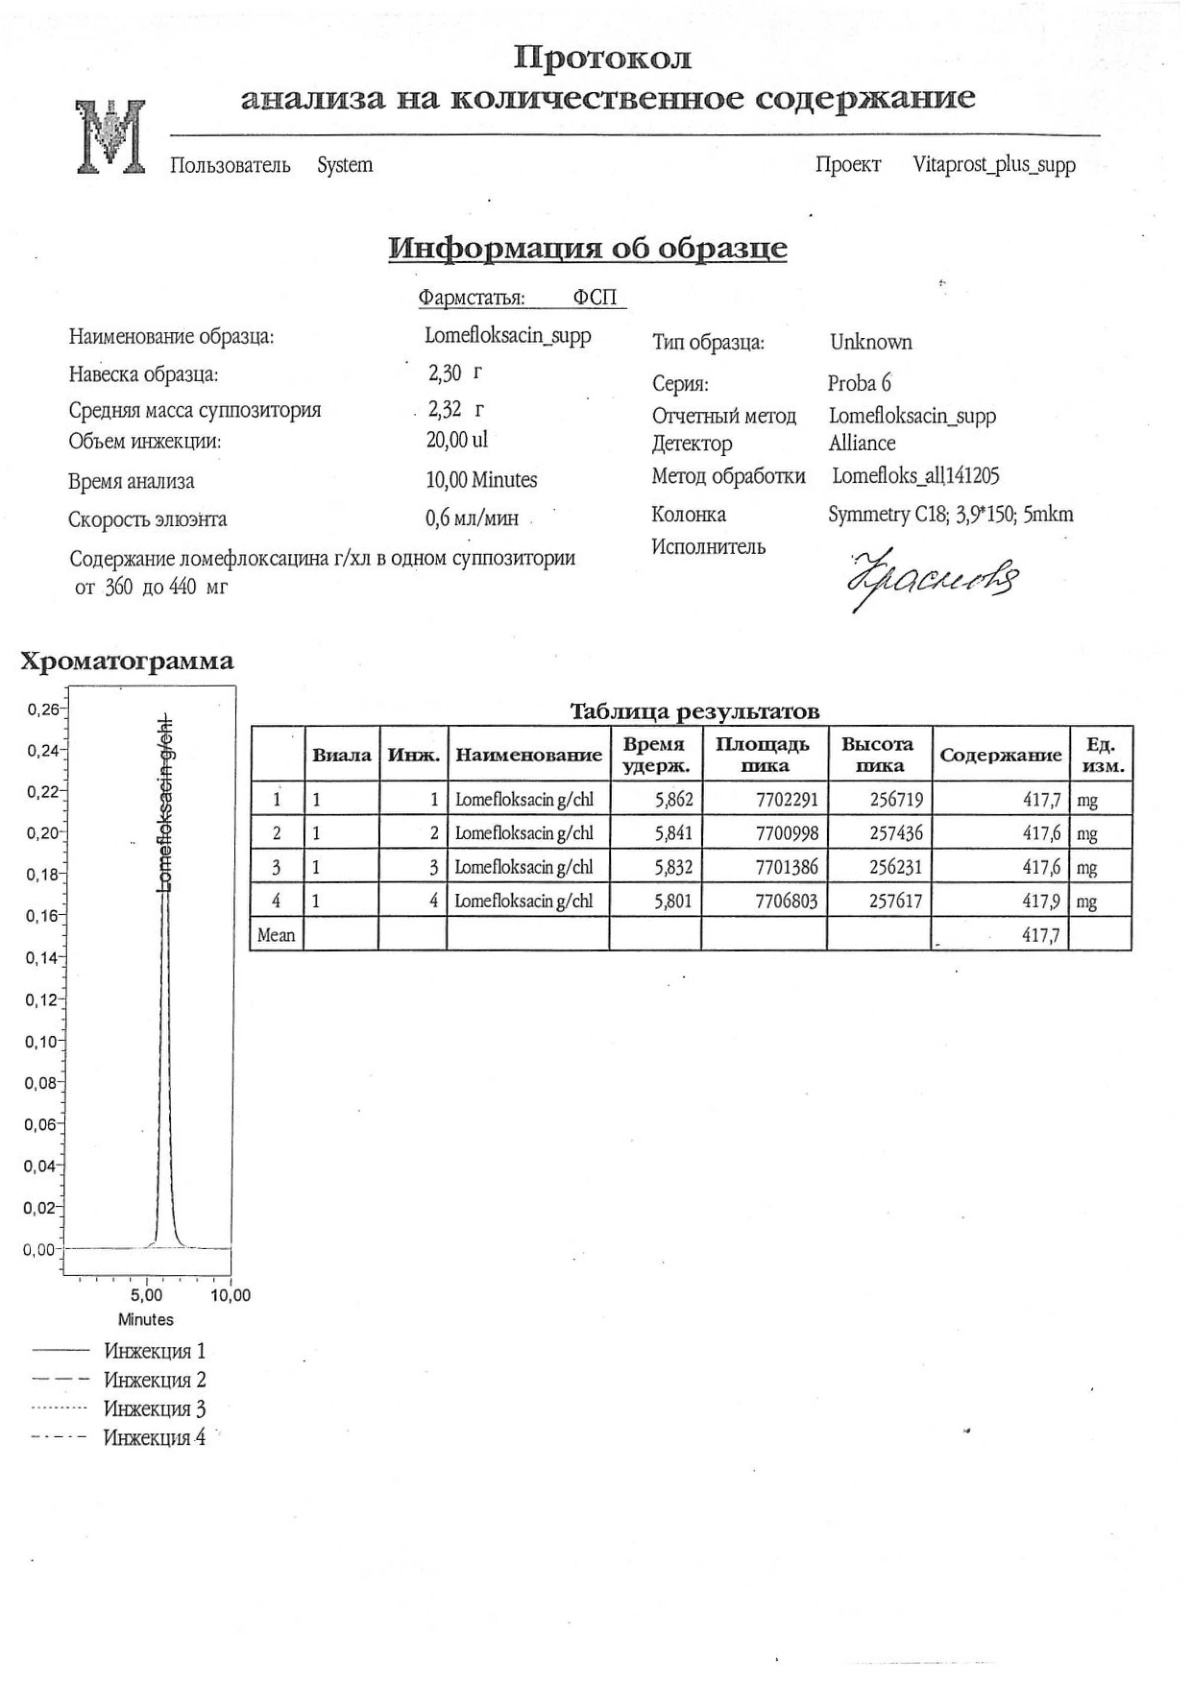full_lined: (246, 723, 1135, 952)
nolines: (65, 320, 1077, 614)
